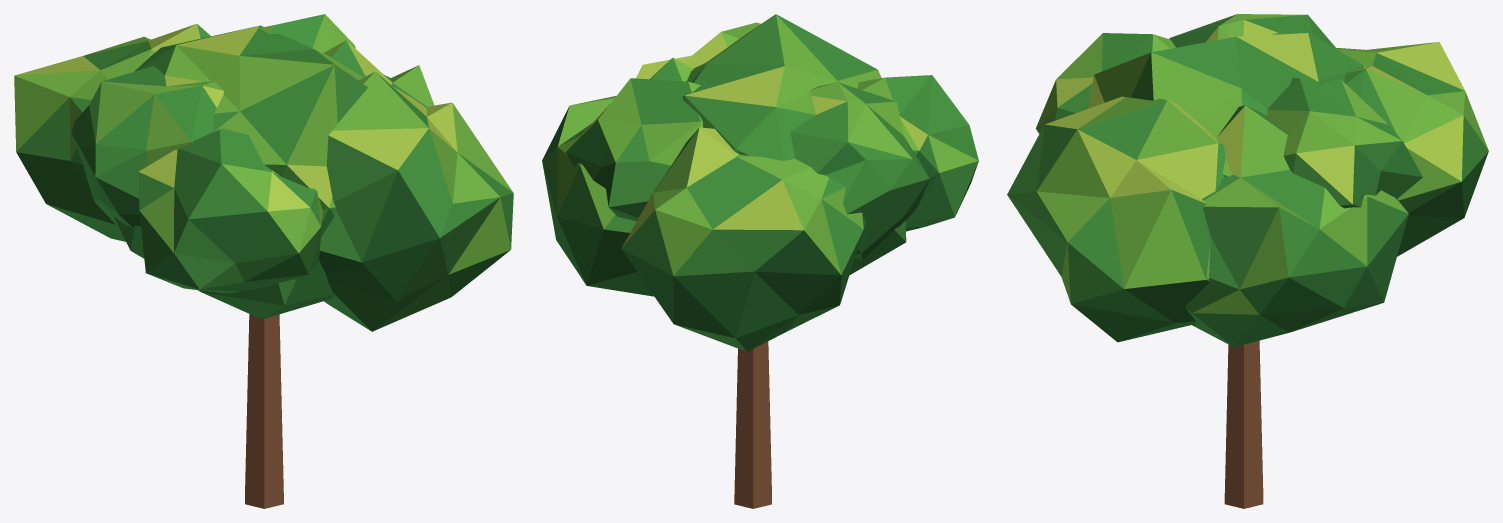
File: tree_round_a.glb
3 views of the same model, side by side, from view 1: azimuth 30°, elevation 25°; view 2: azimuth 150°, elevation 25°; view 3: azimuth 270°, elevation 25° (orthographic). The views are drawn at different scales.
Visible parts, largest first — view 1: body; view 2: body; view 3: body.
Part boxes in pixels (left/top/right/bottom): body: left=14, top=14, right=513, bottom=508; body: left=542, top=14, right=978, bottom=508; body: left=1007, top=14, right=1488, bottom=508.
Bounding box in the file's own units: 4.59 × 5.46 × 5.2.
